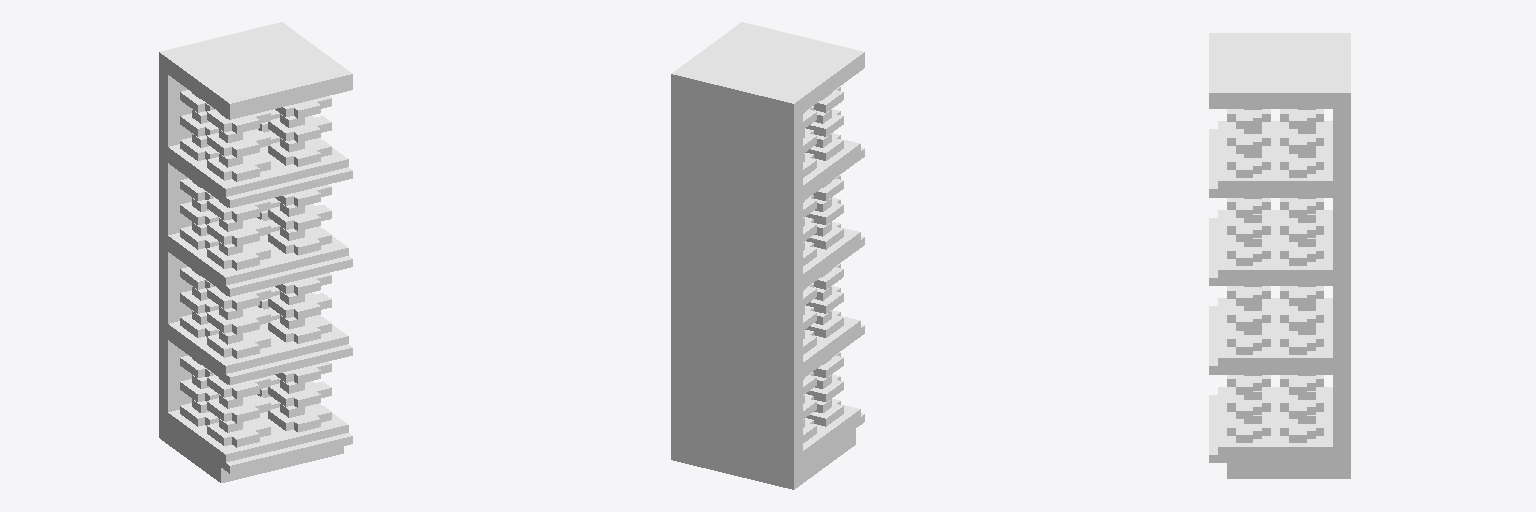
File: fullEggsShelf.obj
3 views of the same model, side by side, from view 1: azimuth 30°, elevation 25°; view 2: azimuth 150°, elevation 25°; view 3: azimuth 270°, elevation 25° (orthographic).
Visible parts, largest first — view 1: object 1; view 2: object 1; view 3: object 1.
Boxes of the visible parts, <box> form: object 1: <box>159,22,352,482</box>; object 1: <box>671,22,864,489</box>; object 1: <box>1209,33,1350,478</box>.
Size of the model in its own units: 1.6 by 4.8 by 1.6.